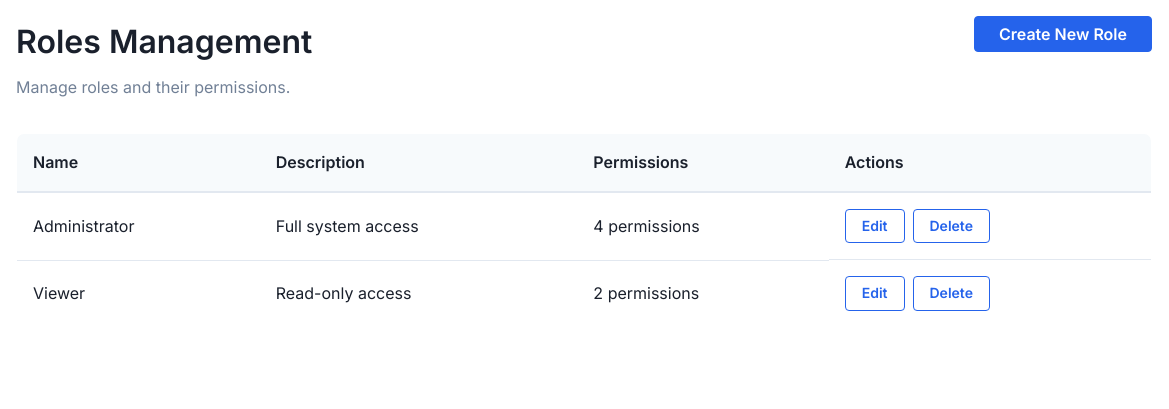
Test case: RolesManagementBlock › Delete Role › shows error message when deletion fails
Click the button "Delete" in the row of "Administrator" at [951, 226], box [912, 209, 990, 244]
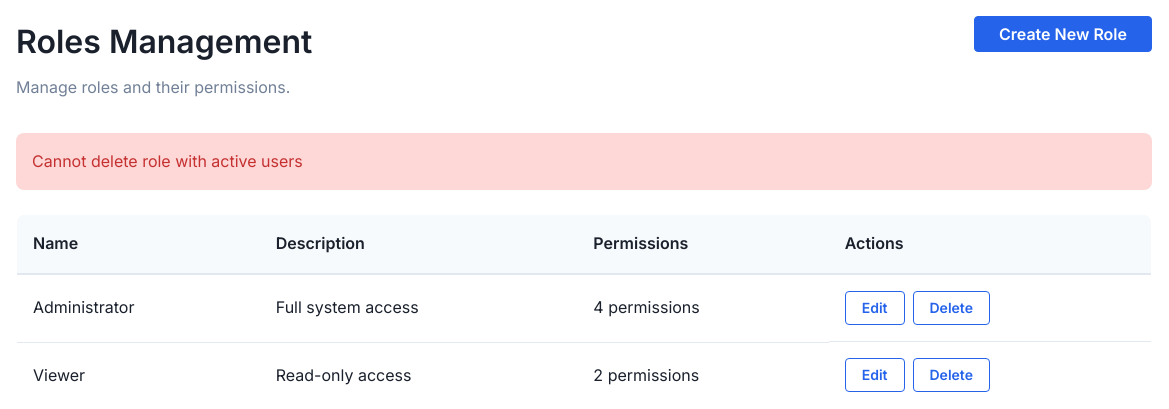
Expected: the message reads "Cannot delete role with active users", [32, 151, 303, 171]
